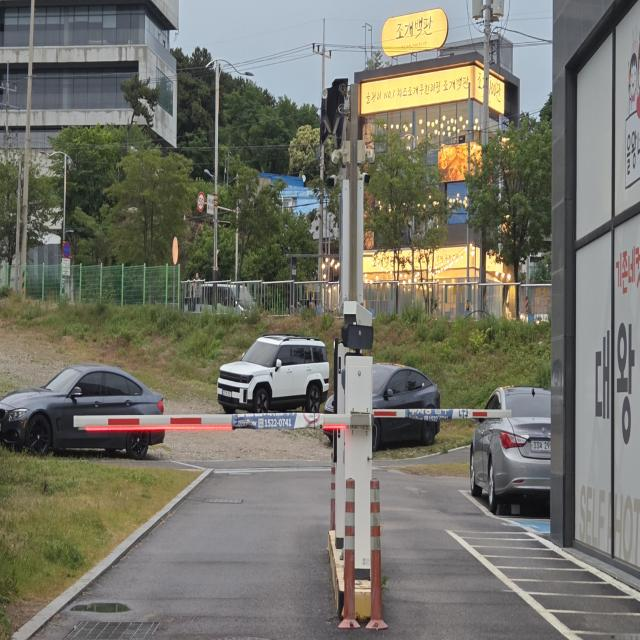car: (1, 358, 188, 466), (462, 376, 568, 526), (208, 320, 335, 435), (318, 351, 447, 455)
